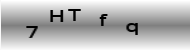7: (25, 24, 39, 39)
H: (48, 9, 65, 24)
T: (67, 8, 82, 23)
f: (98, 13, 109, 27)
q: (124, 22, 140, 36)
